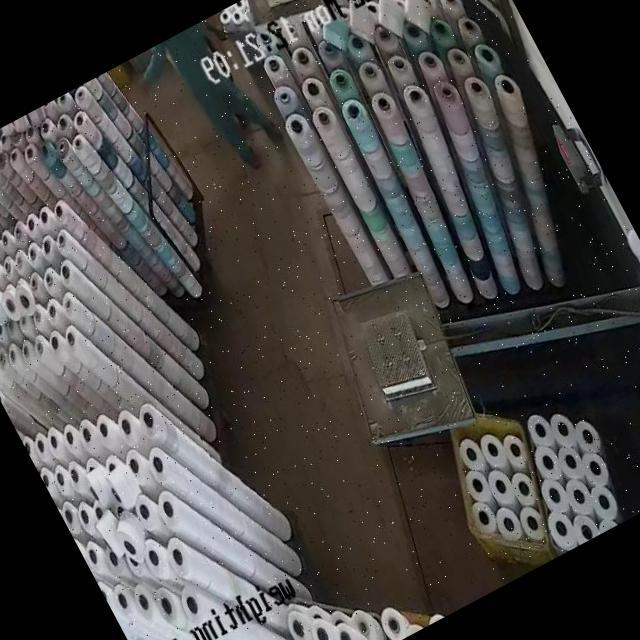person: (172, 20, 276, 174)
